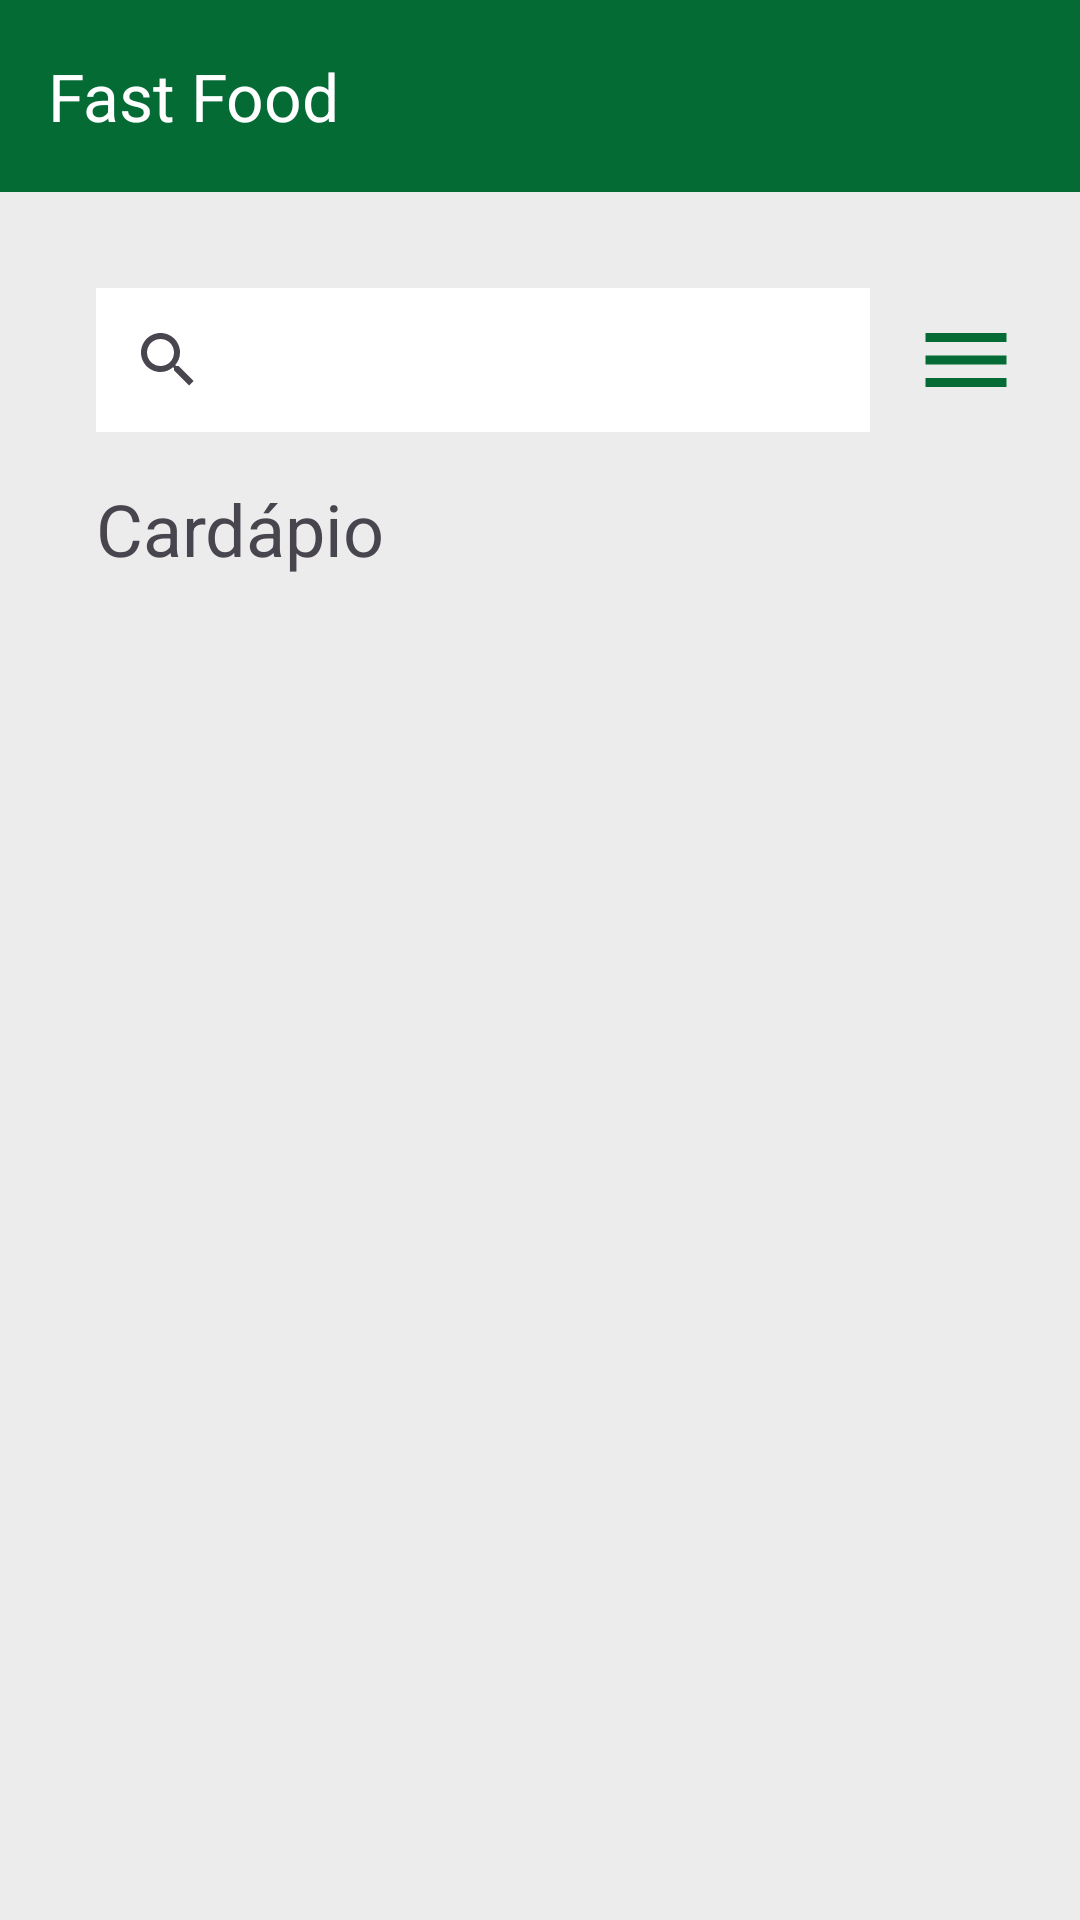

Named icons in this screenshot (1080x1920) and their bounding boxes, {"left": x1, "top": y1, "right": x2, "bottom": y2}:
menu: {"left": 925, "top": 333, "right": 1007, "bottom": 387}
